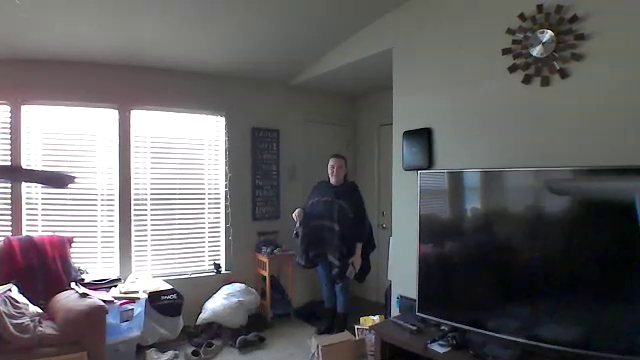down: (289, 206, 308, 227)
